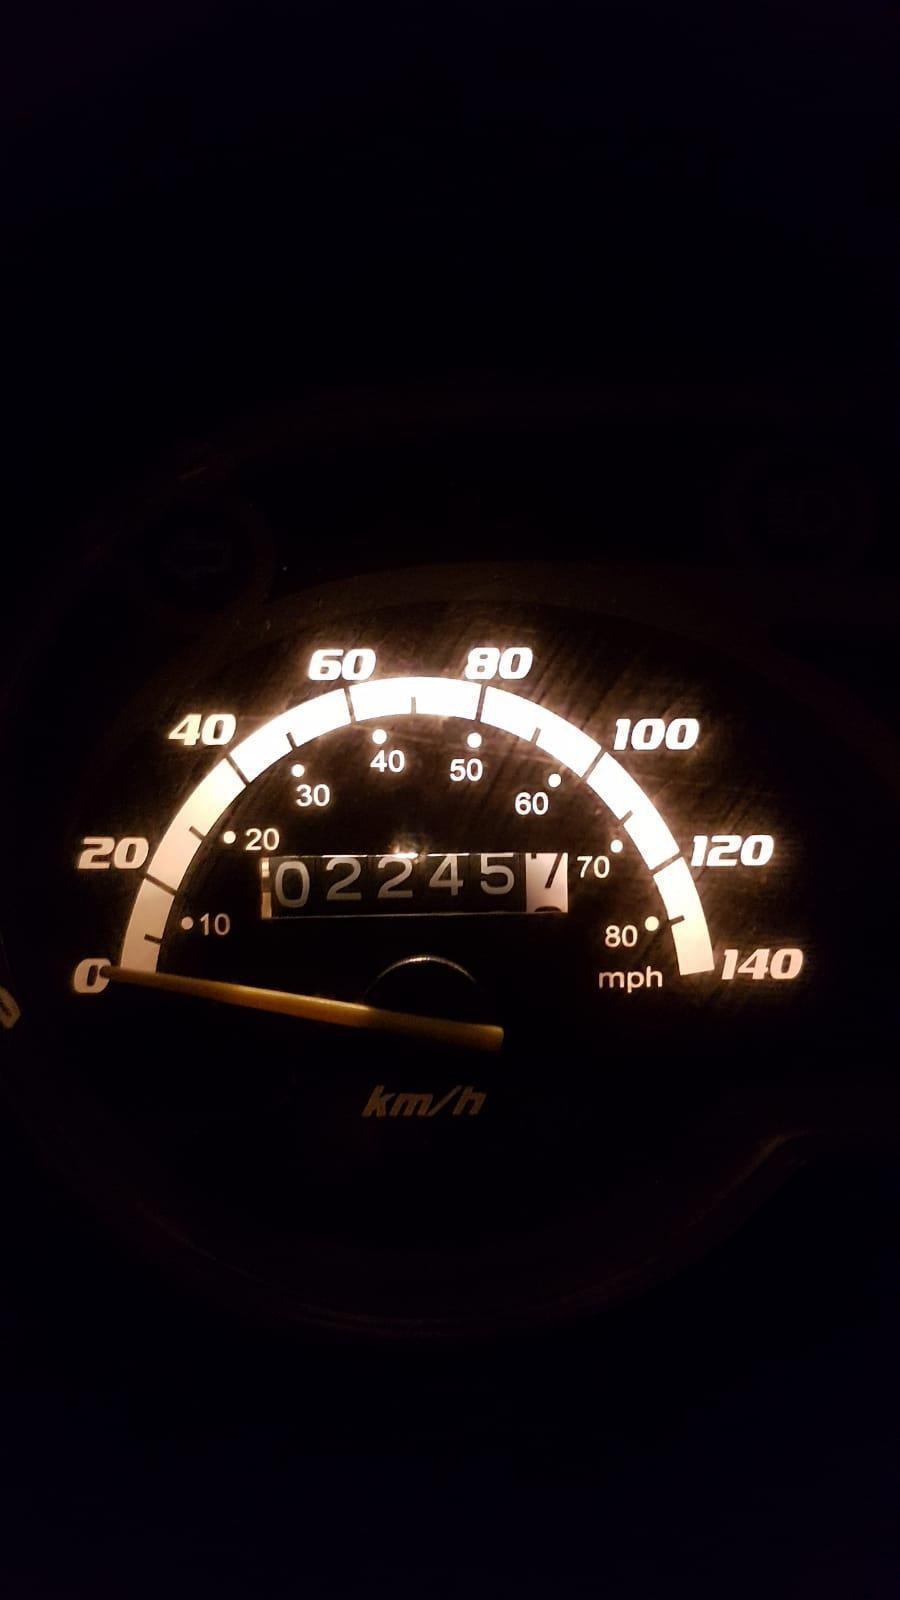0: (268, 856, 313, 912)
2: (320, 853, 365, 909), (376, 854, 414, 905)
4: (427, 851, 468, 904)
5: (476, 851, 520, 904)
7: (527, 851, 568, 899)
odometer: (255, 851, 577, 925)
